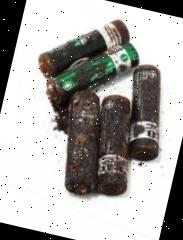electronic: (16, 0, 153, 125)
